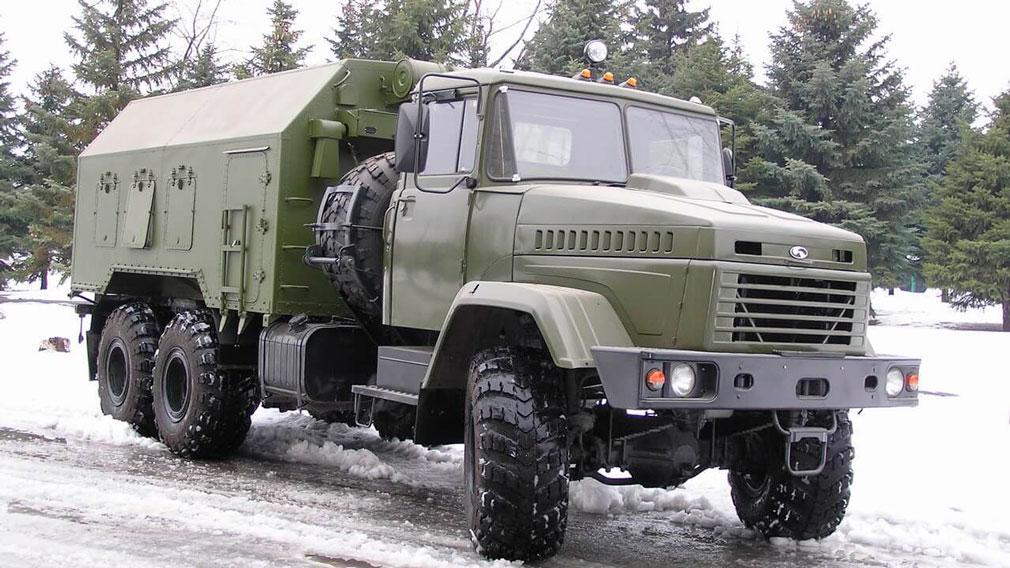truck: (79, 60, 935, 564)
